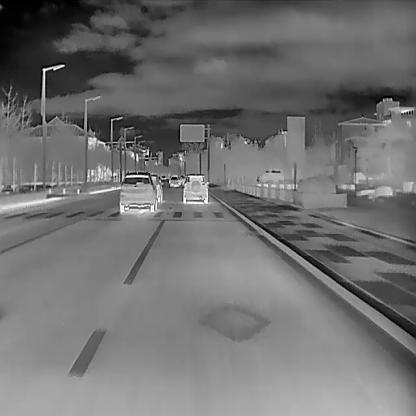car: (119, 170, 157, 211), (181, 173, 208, 203), (150, 173, 163, 202), (169, 174, 178, 186)
